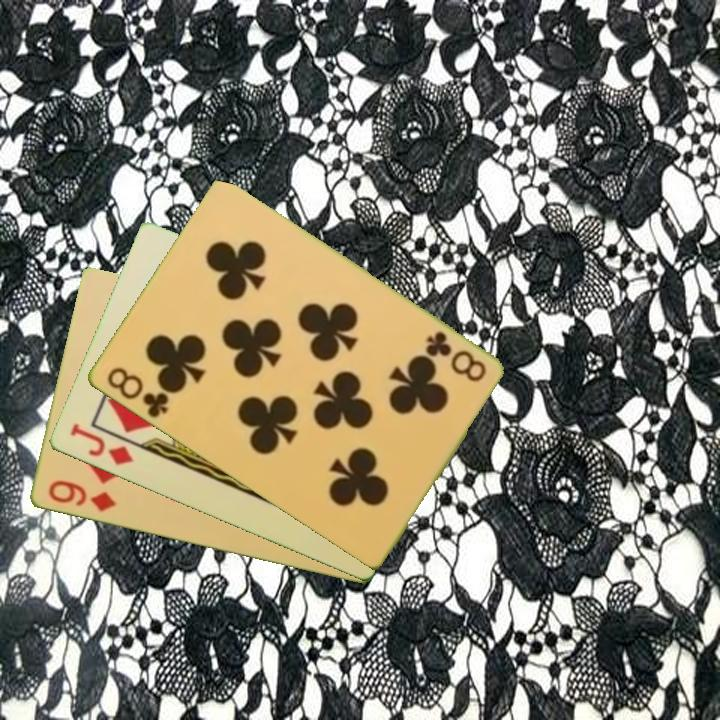8c: (102, 363, 171, 421), (421, 327, 489, 385)
9d: (44, 477, 119, 515)
Jd: (65, 419, 136, 469)
